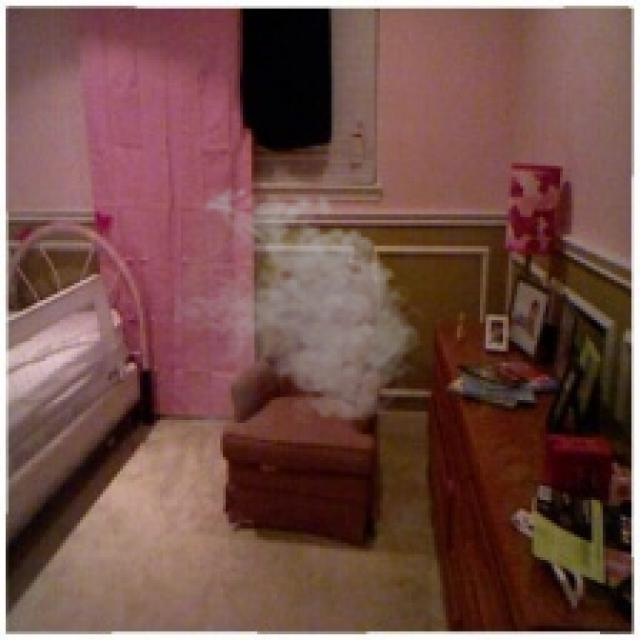Smoke: (174, 180, 429, 429)
